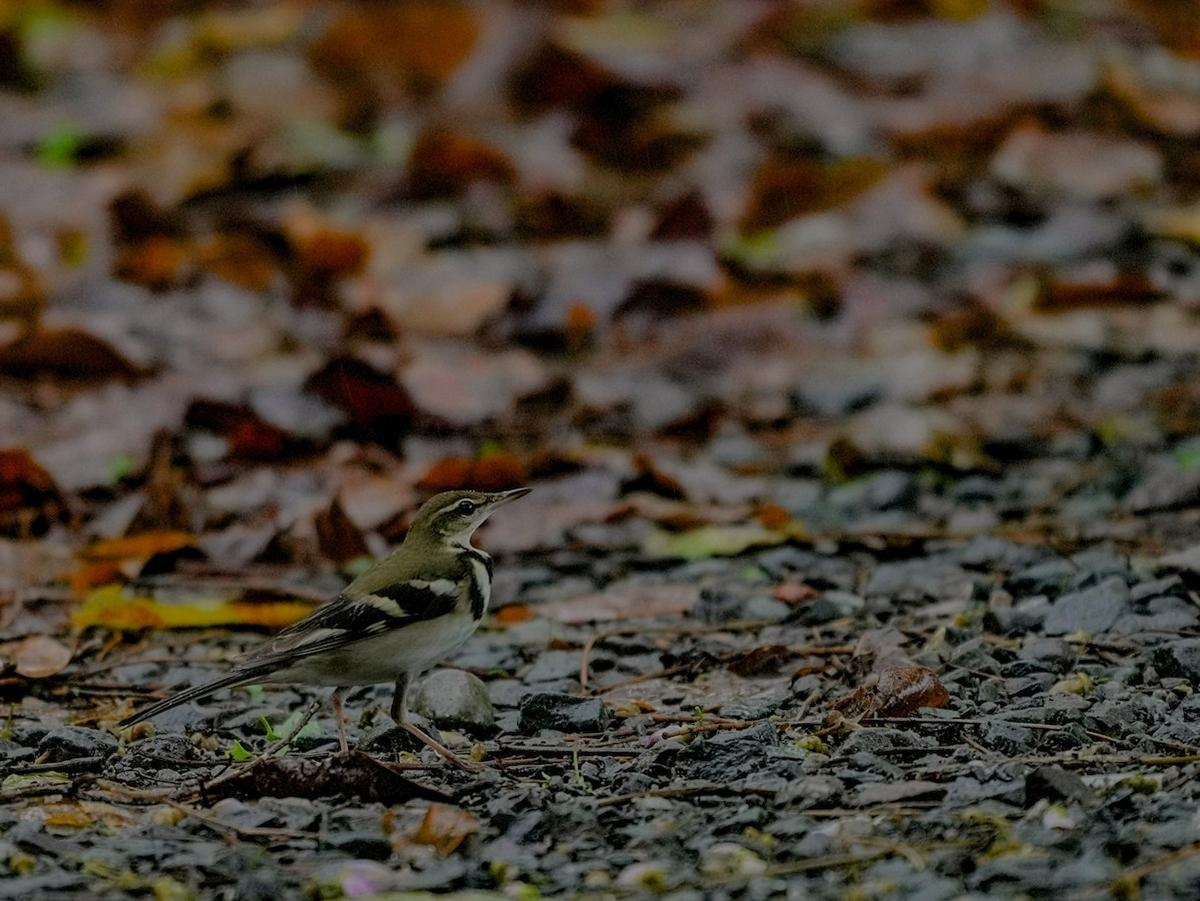wagtail: (200, 461, 553, 718)
